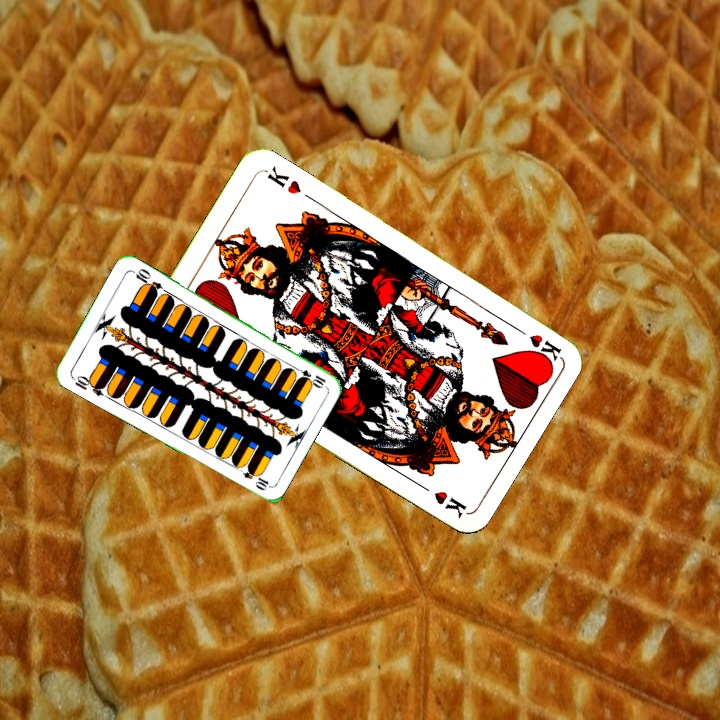E10: (68, 371, 107, 399), (289, 363, 328, 389)
HK: (508, 321, 563, 362)
